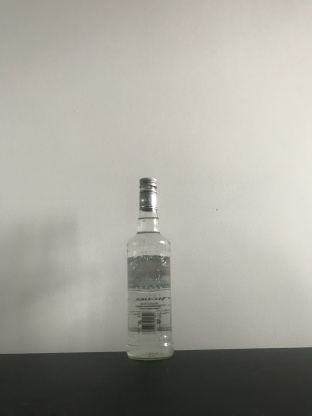nakretka: (137, 176, 158, 211)
